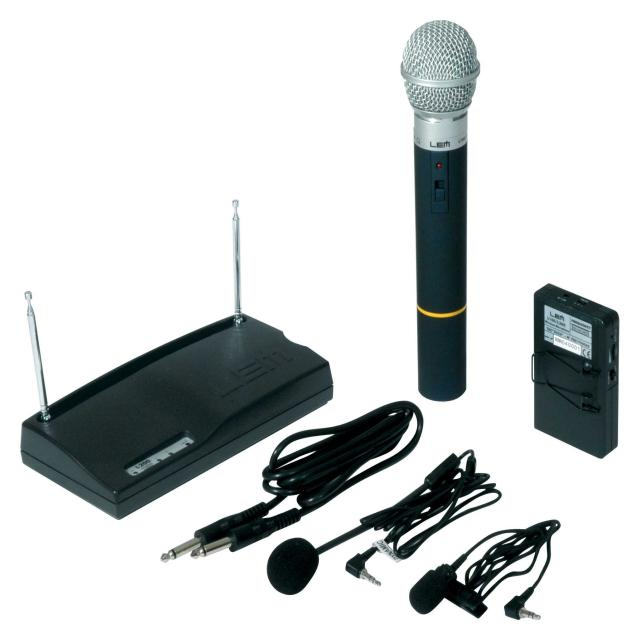microphone: (400, 20, 477, 386), (409, 532, 500, 614), (256, 527, 358, 596)
